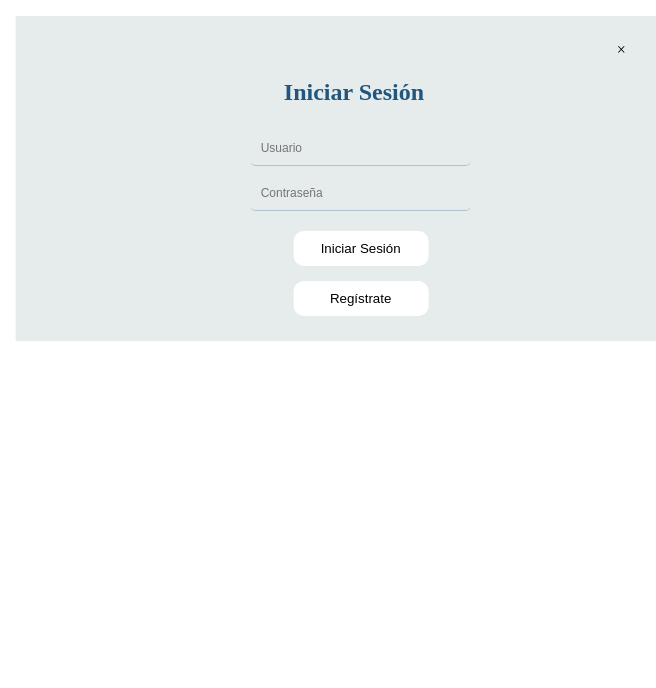
Scenario: Login Component › allows user to switch between login and register views
Click the button "Regístrate" at (361, 299), box x1=293 y1=281 x2=428 y2=316
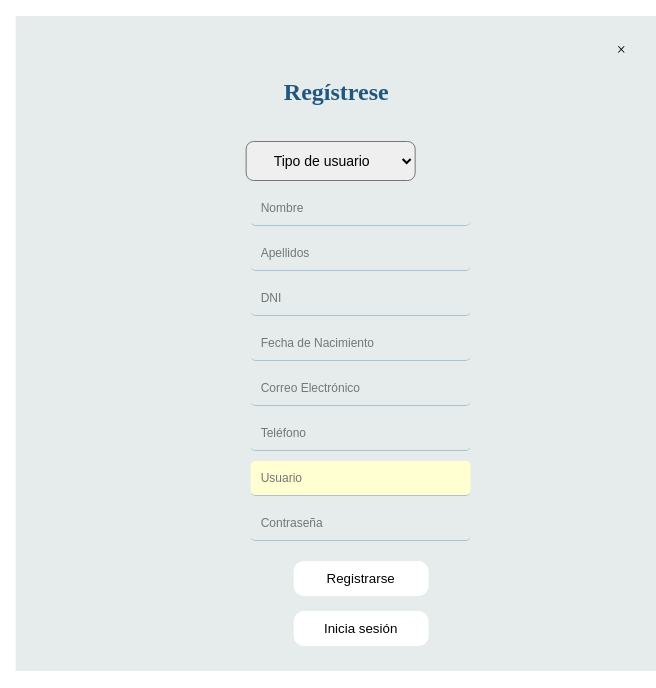
Now the heading "Regístrese" is shown, box x1=284 y1=79 x2=389 y2=105
Now the field with placeholder "Nombre" is shown, box x1=251 y1=191 x2=471 y2=226
Now the field with placeholder "Apellidos" is shown, box x1=251 y1=236 x2=471 y2=271
